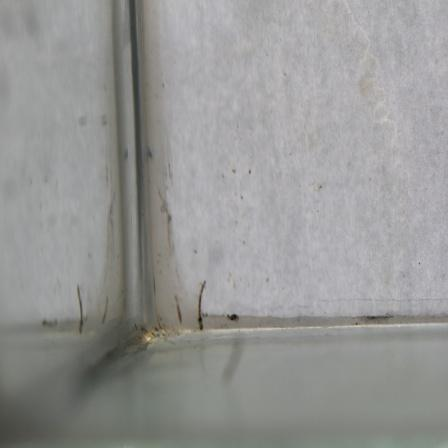Jentik-Nyamuk: (189, 274, 211, 335), (223, 308, 242, 325)
